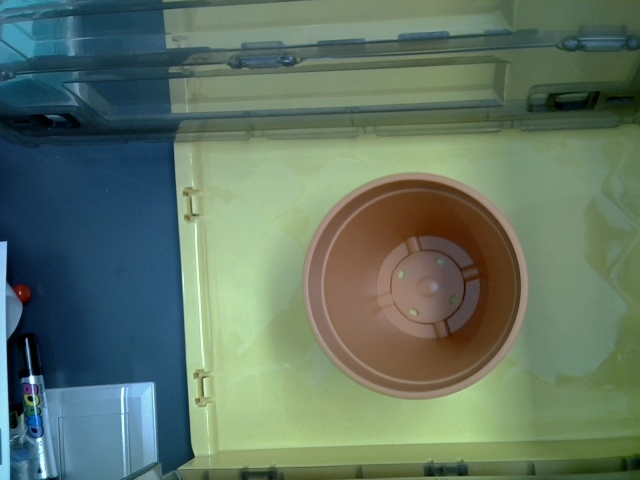화분: (302, 174, 531, 402)
